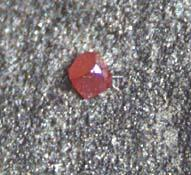cuprite: (68, 52, 113, 99)
